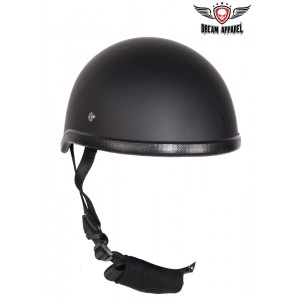with_helmet: (55, 34, 247, 172)
